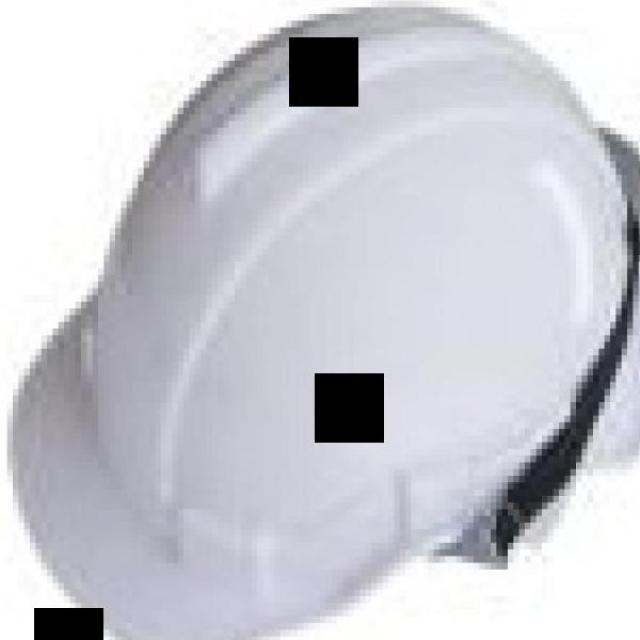white helmet: (26, 14, 636, 610)
